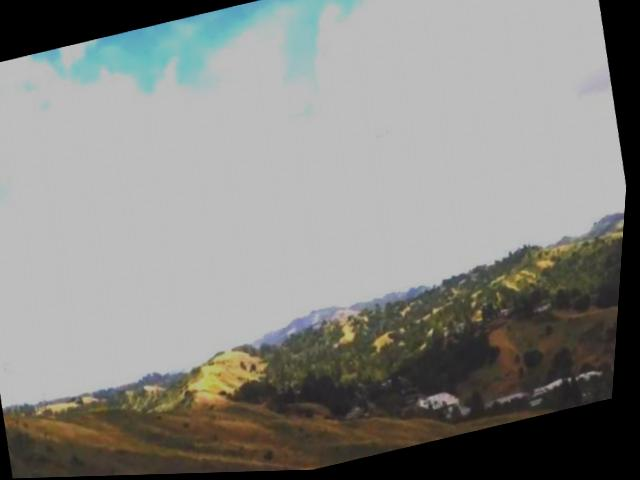iha: (366, 124, 397, 155)
